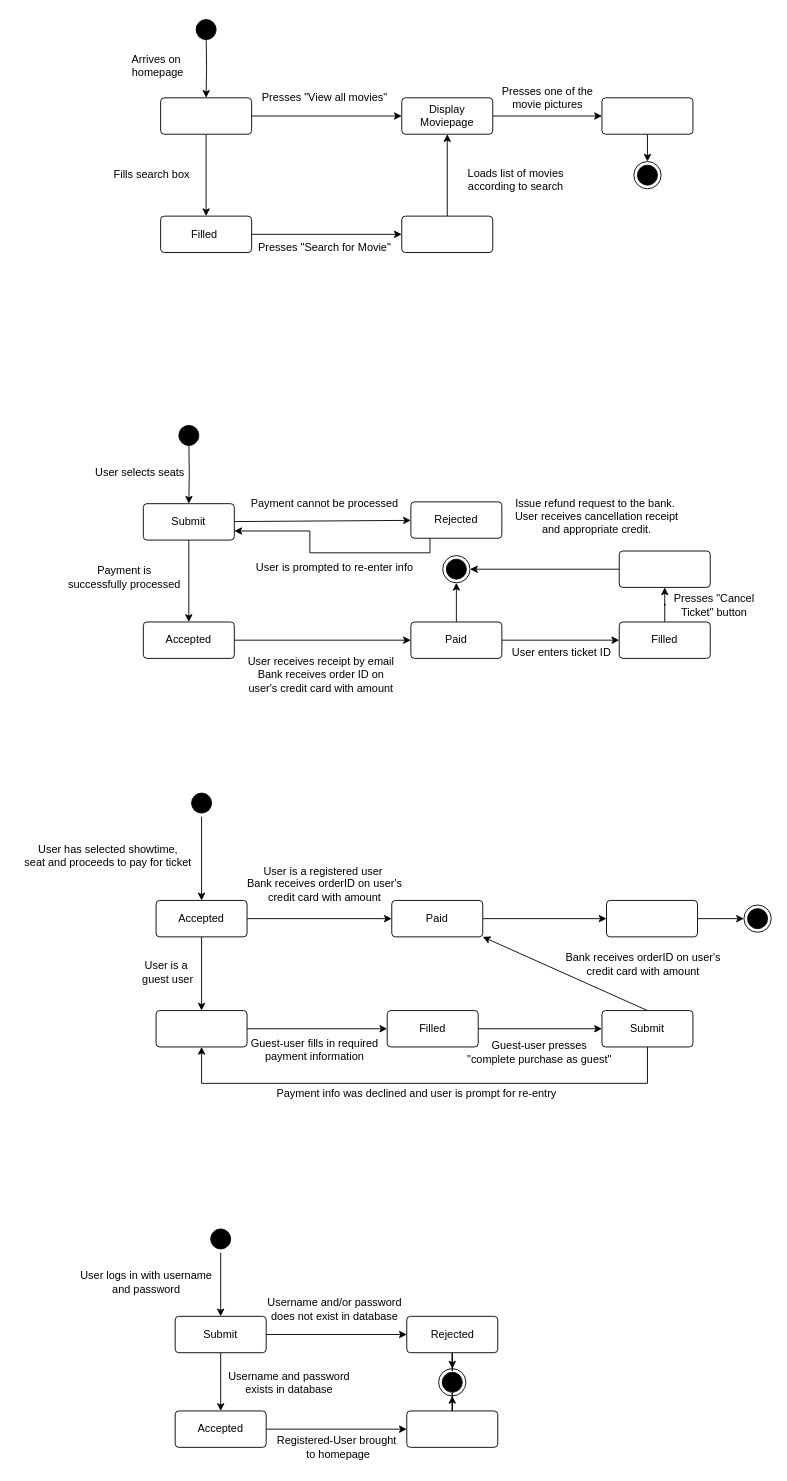
This 787x1481 diagram has some shape labels left out. The shapes that lost their labels are listed below. From the top down, each one's centre as x and y in pixels, then its label:
pixel 206 115: Display Homepage
pixel 647 115: Display Individual Moviepage
pixel 447 234: Searching
pixel 664 568: Cancel
pixel 652 918: Ticketpage
pixel 201 1028: Paymentpage
pixel 452 1428: Registered User Access
